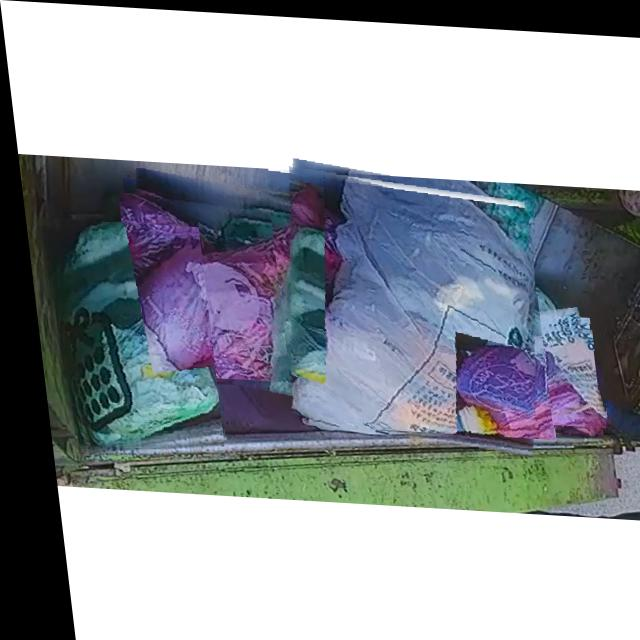general_trashbag: (50, 222, 210, 445)
other_trashbag: (283, 170, 529, 428), (122, 210, 313, 379), (454, 313, 598, 420)
